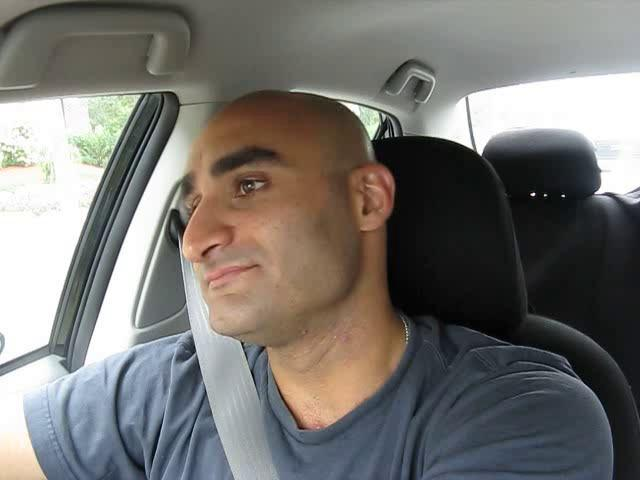no_yawn: (186, 250, 271, 298)
open_eyeR: (225, 167, 279, 207)
